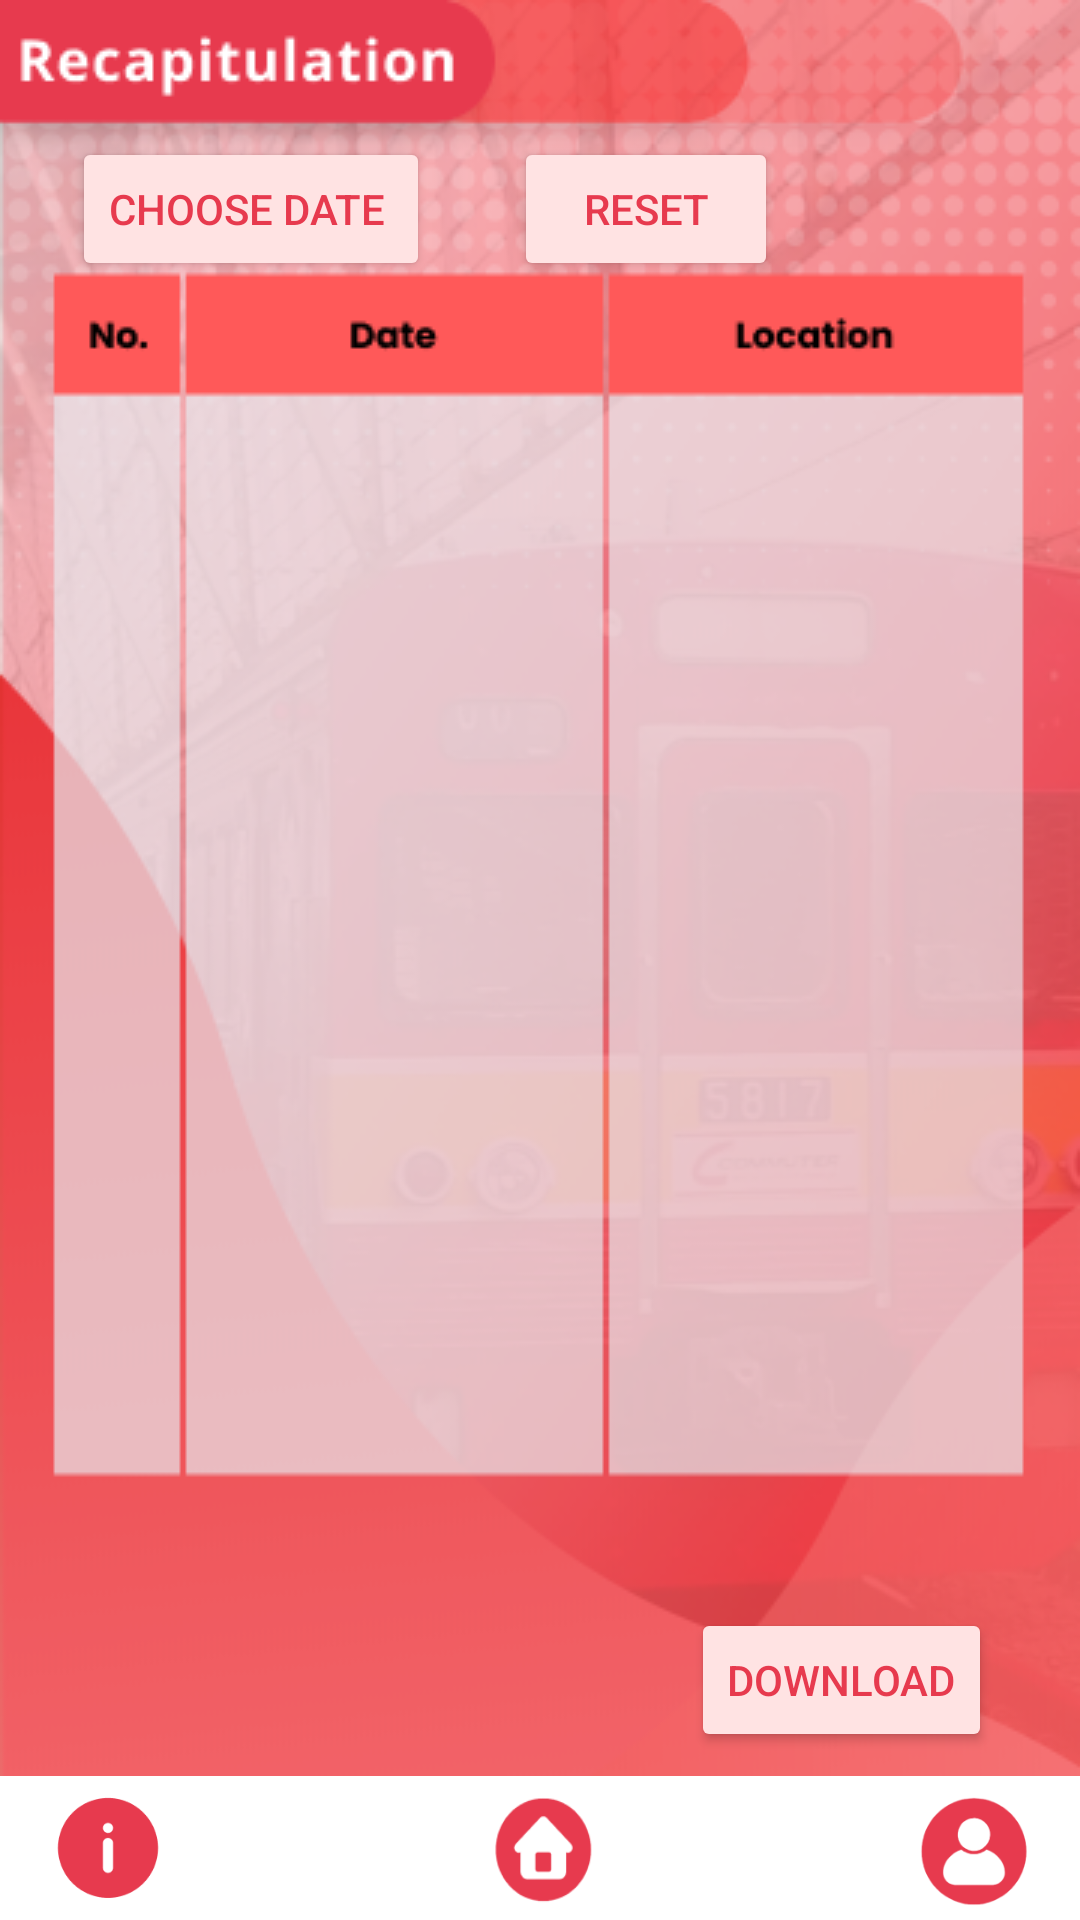

Screen size 1080*1920. Icon name, then its center in pixels as point (x, y):
home: point (543, 1850)
info: point (108, 1848)
profil: point (974, 1851)
